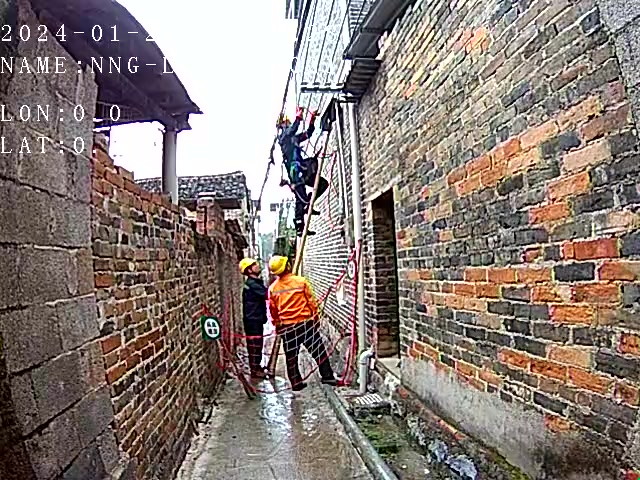halt: (241, 261, 264, 281), (271, 258, 292, 279)
